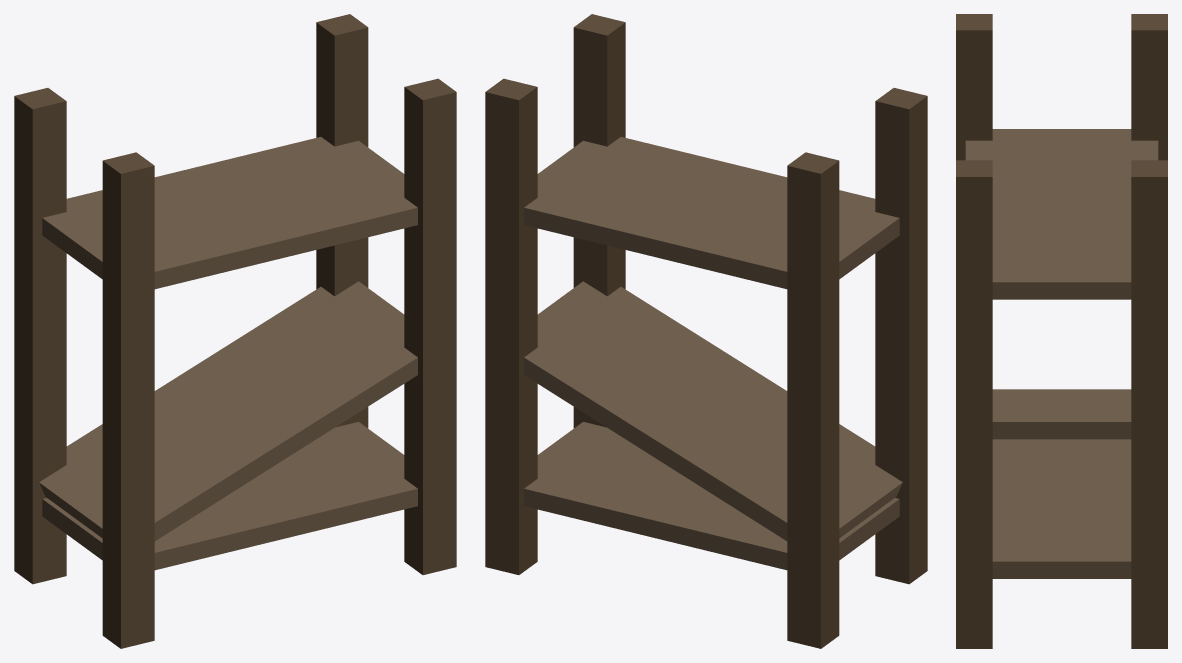
Rendered from SD_Prop_Shelf_03.fbx.
3 renders of one model, left to right at view 1: azimuth 30°, elevation 25°; view 2: azimuth 150°, elevation 25°; view 3: azimuth 270°, elevation 25°, orthographic.
Parts seen in each view (by area): view 1: SD_Prop_Shelf_03; view 2: SD_Prop_Shelf_03; view 3: SD_Prop_Shelf_03.
Part boxes in pixels (box(x1,y1,x2,y2)): SD_Prop_Shelf_03: box(14, 14, 456, 648); SD_Prop_Shelf_03: box(485, 14, 927, 648); SD_Prop_Shelf_03: box(956, 14, 1167, 648).
Bounding box in the file's own units: 1.46 × 1.97 × 0.8008.
